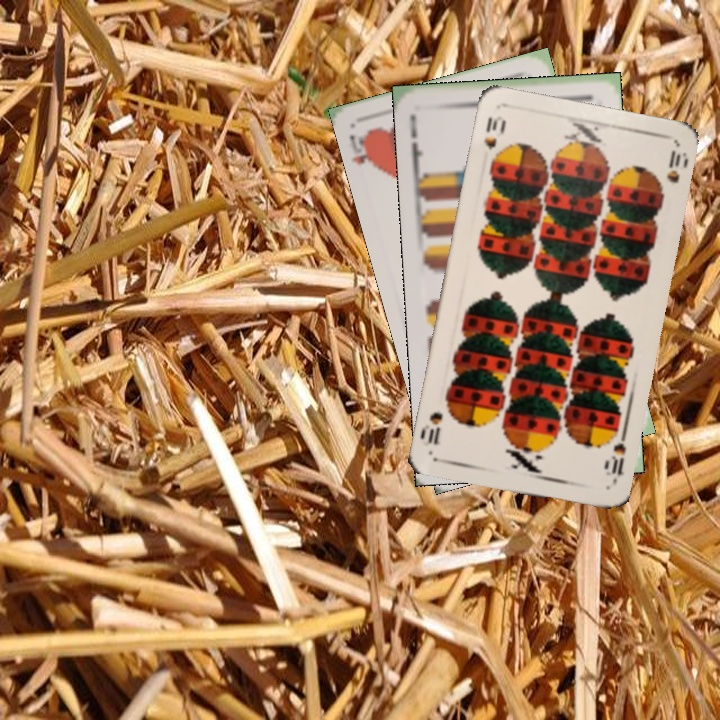E7: (406, 110, 426, 169)
HO: (345, 126, 381, 175)
S10: (601, 428, 629, 486), (479, 112, 507, 167)
